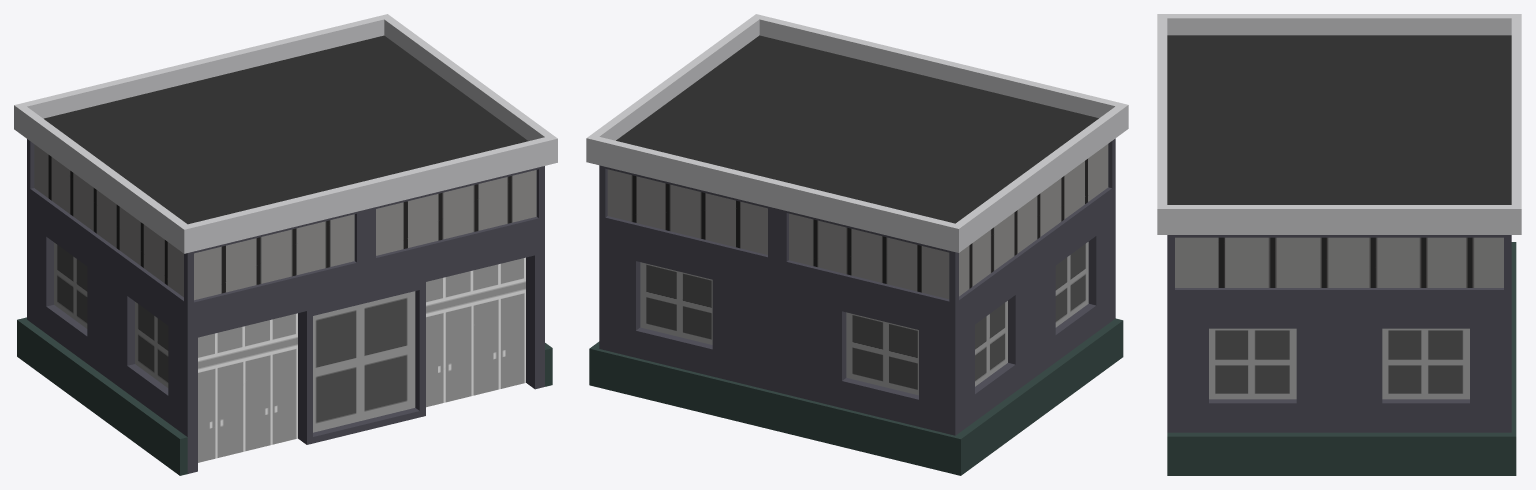
The model's file is building14a.FBX.
The picture shows the model from 3 angles, left to right: view 1: azimuth 30°, elevation 25°; view 2: azimuth 150°, elevation 25°; view 3: azimuth 270°, elevation 25°; orthographic projection. The views are drawn at different scales.
Visible parts, largest first — view 1: building14a; view 2: building14a; view 3: building14a.
Boxes of the visible parts, x1,y1,x2,y2 form: building14a: [14, 14, 557, 475]; building14a: [586, 14, 1128, 475]; building14a: [1157, 14, 1521, 475].
Size of the model in its own units: 17.35 by 11.08 by 13.69.
